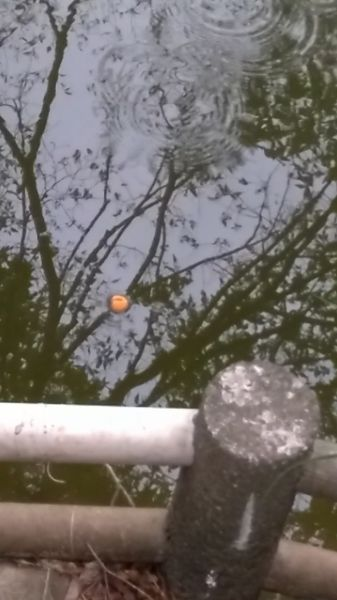eggs: (106, 293, 132, 314)
